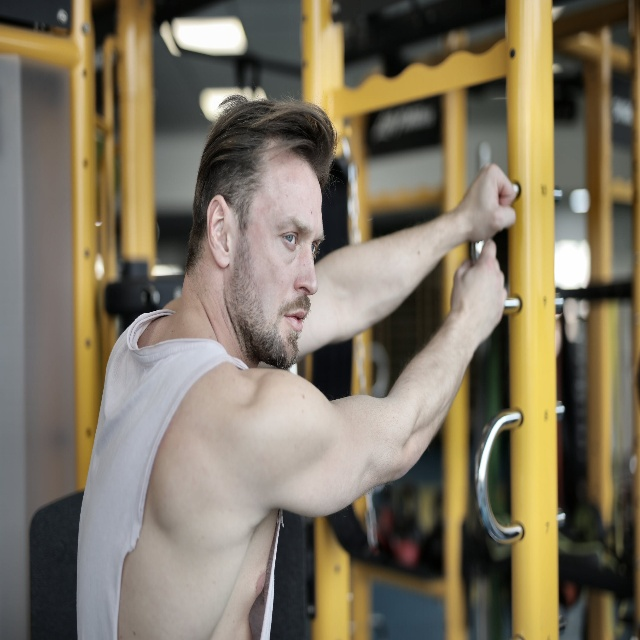Sin_guantes: (451, 239, 506, 340), (463, 161, 516, 239)
